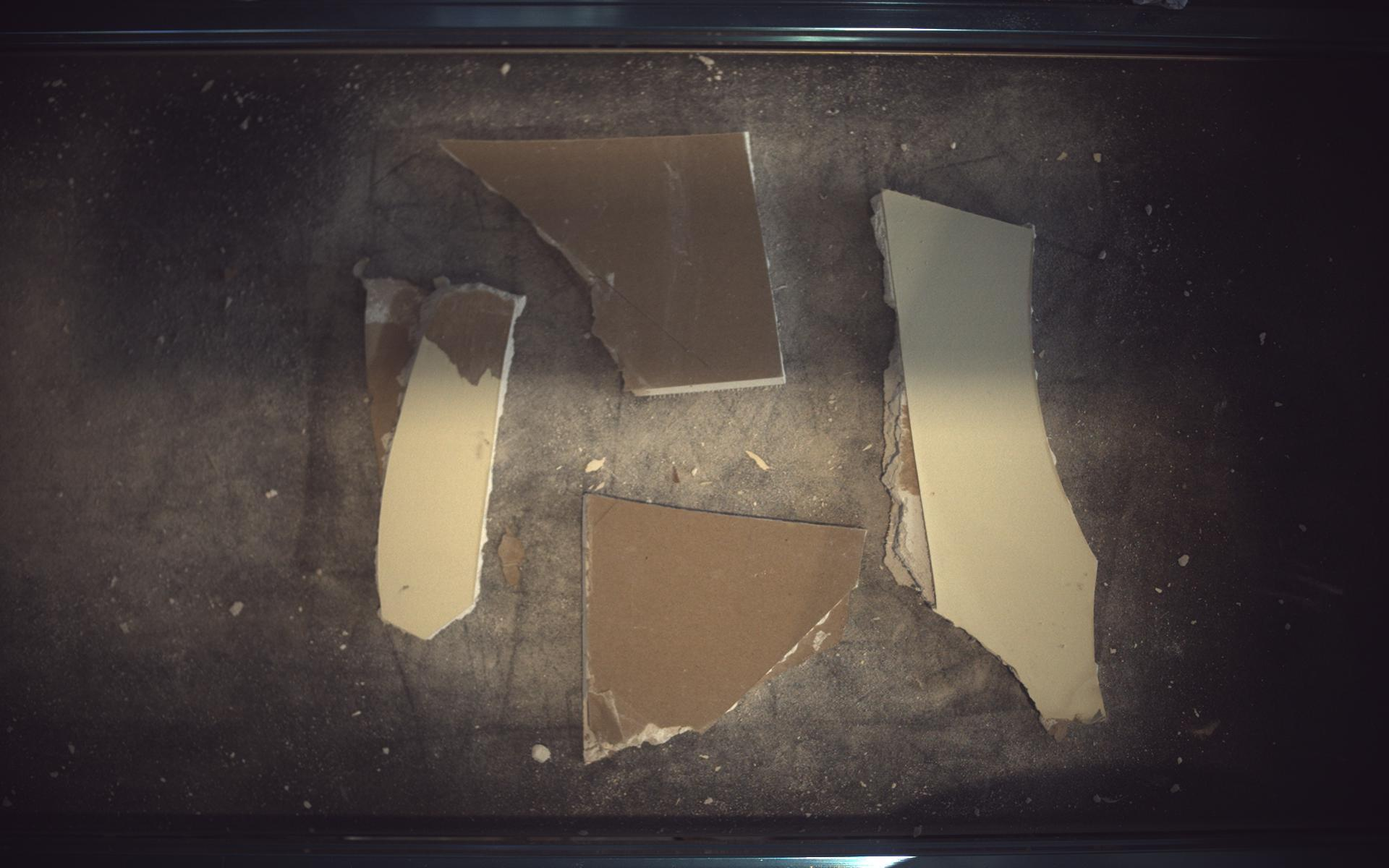gypsum_board: (873, 189, 1108, 731), (441, 133, 786, 396), (584, 494, 867, 765), (362, 278, 526, 640)
